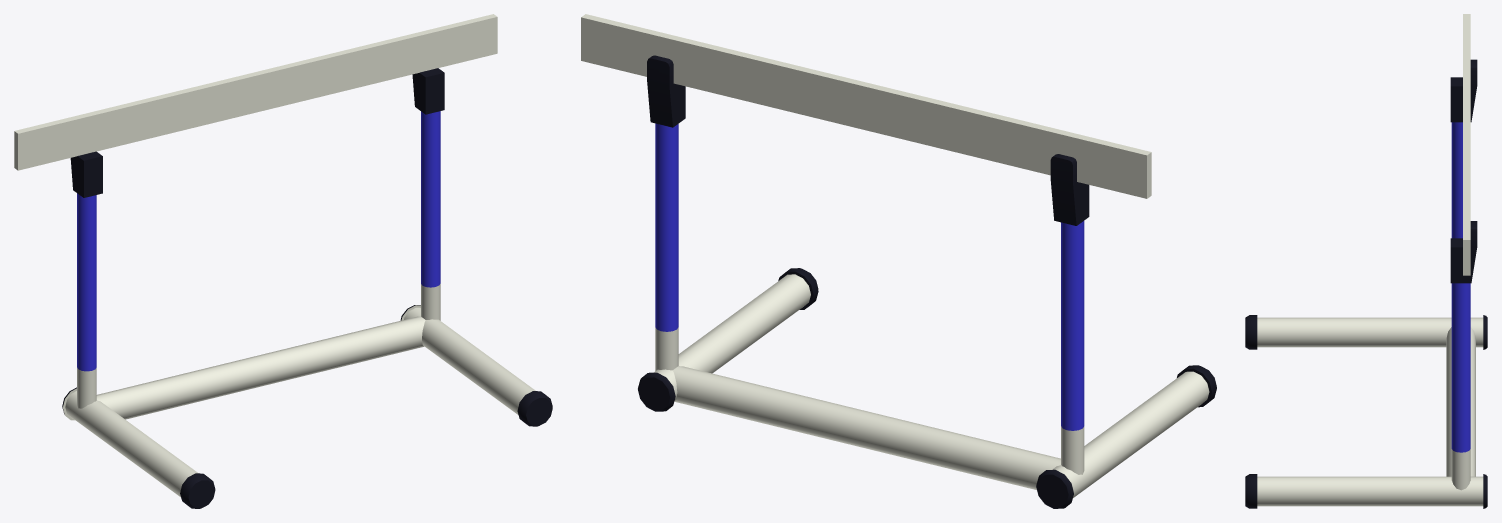
File: hurdle.glb
3 views of the same model, side by side, from view 1: azimuth 30°, elevation 25°; view 2: azimuth 150°, elevation 25°; view 3: azimuth 270°, elevation 25° (orthographic). The views are drawn at different scales.
Visible parts, largest first — view 1: Hurdle; view 2: Hurdle; view 3: Hurdle.
Part boxes in pixels (bbox=[...]): Hurdle: bbox=[14, 14, 552, 508]; Hurdle: bbox=[581, 14, 1216, 508]; Hurdle: bbox=[1245, 14, 1487, 508].
Size of the model in its own units: 3.11 by 1.93 by 1.41.
Materials: 1 (1 with a texture image).
